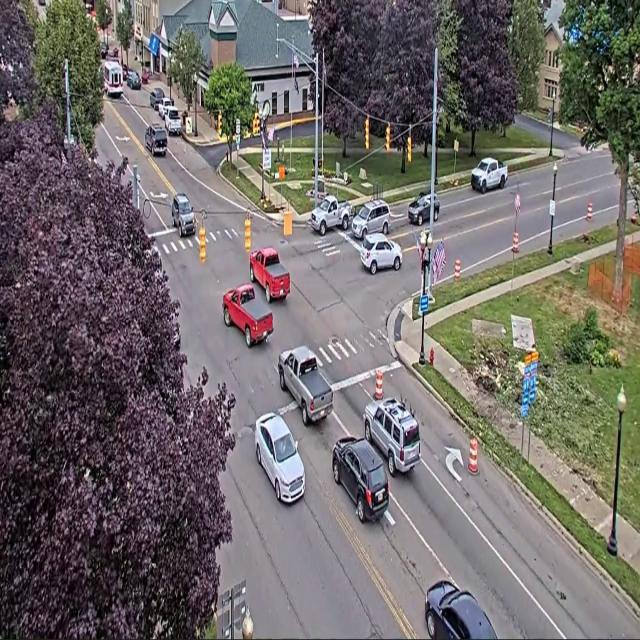car: (332, 436, 389, 522), (255, 413, 305, 503), (364, 399, 420, 476), (425, 580, 497, 639), (360, 233, 402, 274), (351, 199, 391, 239), (172, 193, 196, 237), (145, 124, 167, 156), (164, 106, 182, 135), (158, 97, 173, 119), (150, 88, 164, 111), (127, 71, 141, 89), (174, 324, 182, 350), (106, 48, 119, 62), (433, 194, 439, 221), (100, 42, 108, 59), (122, 64, 128, 79)
traffic signal: (244, 216, 252, 252), (199, 224, 205, 262), (252, 112, 259, 135), (407, 133, 412, 163), (385, 124, 390, 151), (365, 117, 369, 149), (218, 112, 221, 136)
truck: (278, 346, 332, 425), (222, 284, 273, 347), (250, 248, 290, 303), (309, 195, 352, 236), (471, 158, 507, 193)
